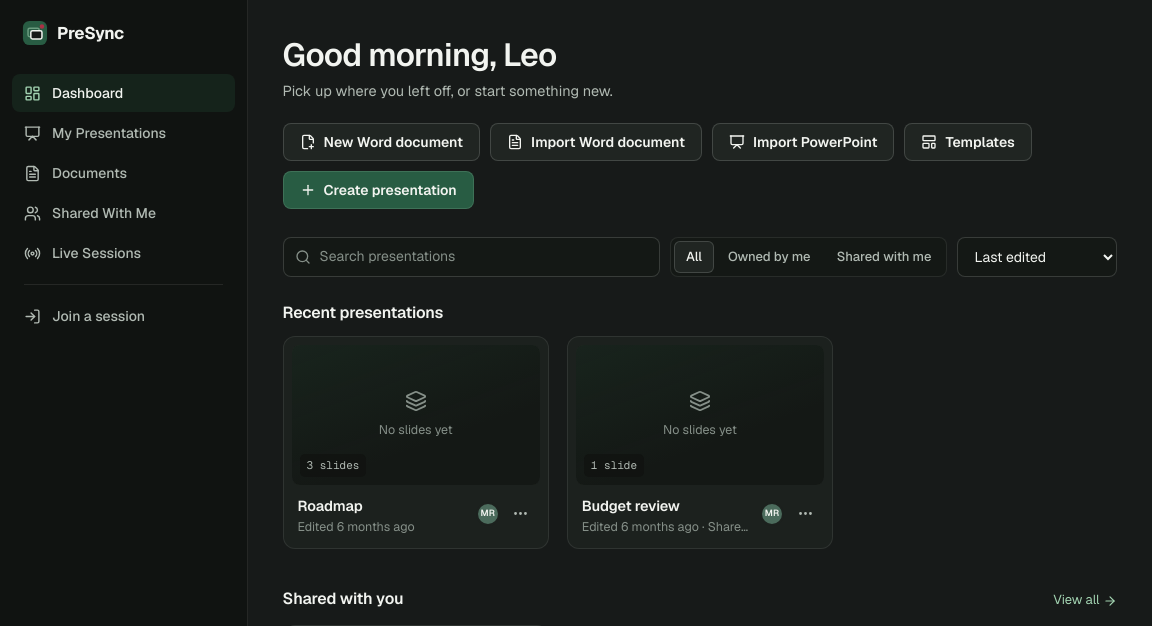
Scenario: DecksPage › opens the import dialog for Word from the header
The width and height of the screenshot is (1152, 626).
Expected: the heading "Roadmap" is shown, [298,496,362,515]
What coordinates should you click on to do the following:
click the button "Import Word document"
I would click on:
 (596, 142)
Its box is [490,123,702,161].
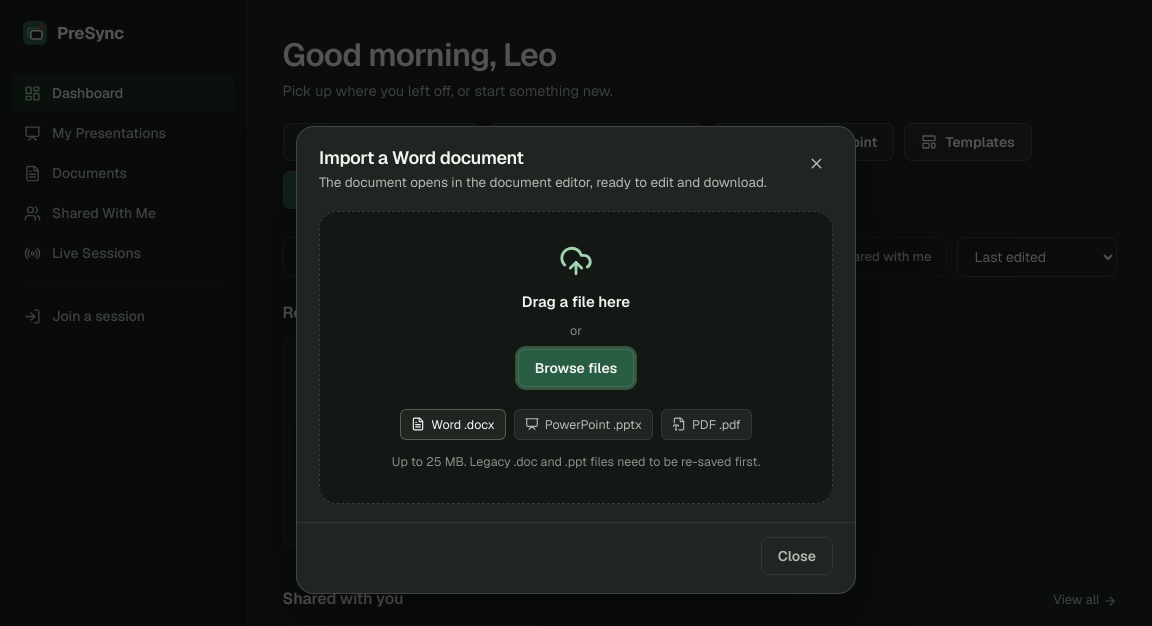
Expected: the dialog "Import a Word document" is shown, [296,126,856,594]
Expected: the button "Browse files" is shown, [518,349,634,387]
